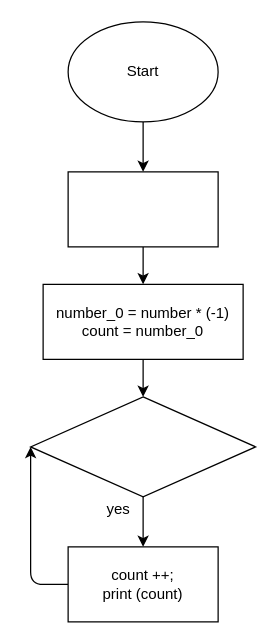
Image size: 278x644. Some labels were removed from this diagram. The shapes that lost their labels are listed below. From the top down, each one's box as (x1, y1, x2, y2) in pixels, then its label:
(67, 171, 218, 247): number = Введите число
(29, 396, 256, 497): count < number
